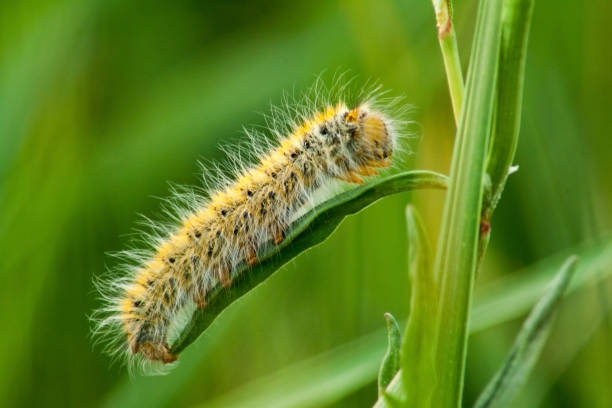Caterpillar: (92, 68, 395, 369)
